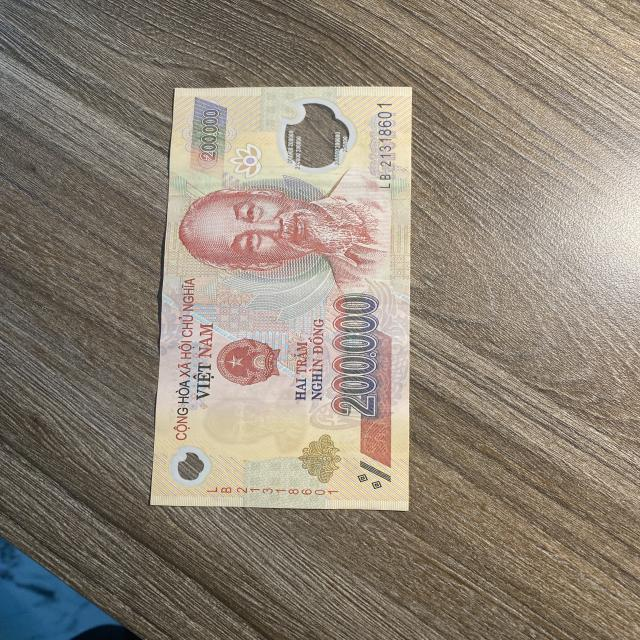200 000 VND: (149, 84, 414, 514)
